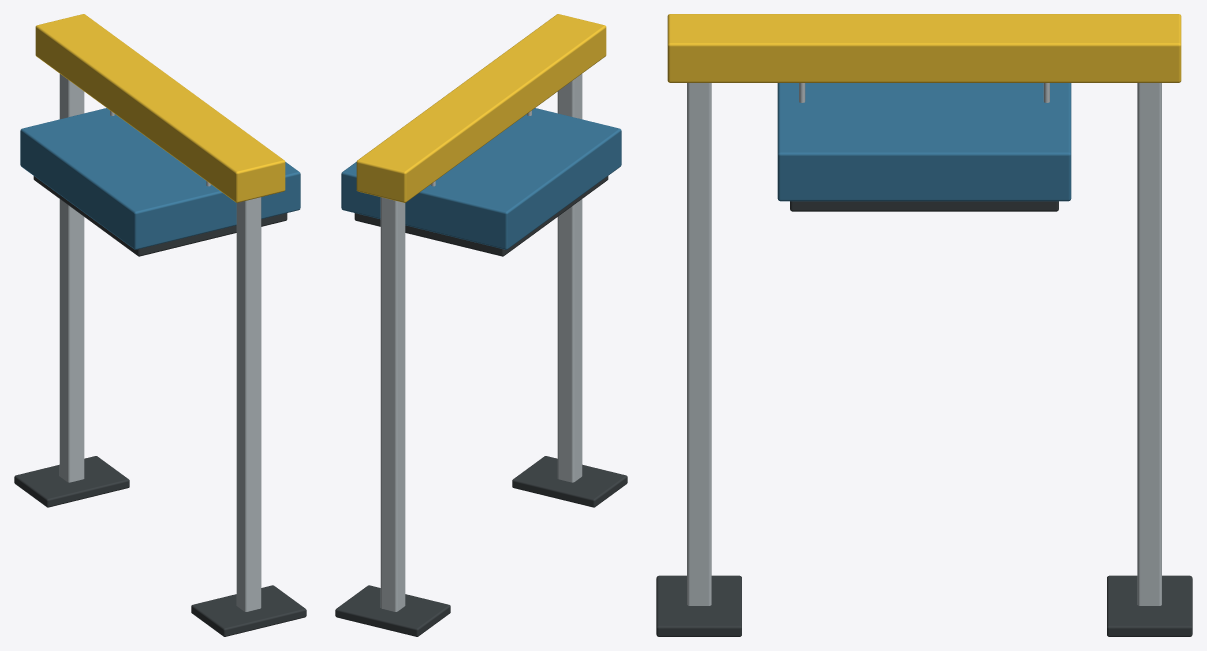
File: recycling-centre-and-material-sorting-separator-magnet-88b21075__31114.glb
3 renders of one model, left to right at view 1: azimuth 30°, elevation 25°; view 2: azimuth 150°, elevation 25°; view 3: azimuth 270°, elevation 25°, orthographic. The views are drawn at different scales.
Parts seen in each view (by area): view 1: separator-magnet-bridge; view 2: separator-magnet-bridge; view 3: separator-magnet-bridge.
Part boxes in pixels (left/top/right/bottom): separator-magnet-bridge: left=14, top=14, right=306, bottom=636; separator-magnet-bridge: left=335, top=14, right=627, bottom=636; separator-magnet-bridge: left=656, top=14, right=1192, bottom=636.
Bounding box in the file's own units: 1 × 2.63 × 2.19.
